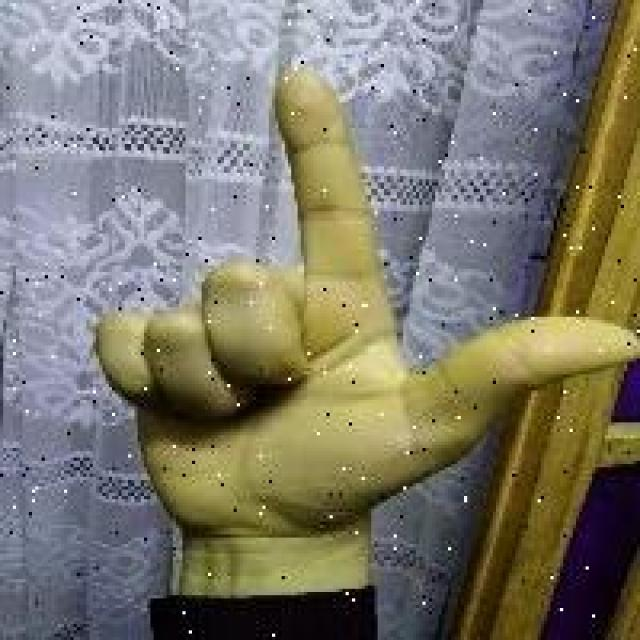L: (88, 64, 638, 525)
